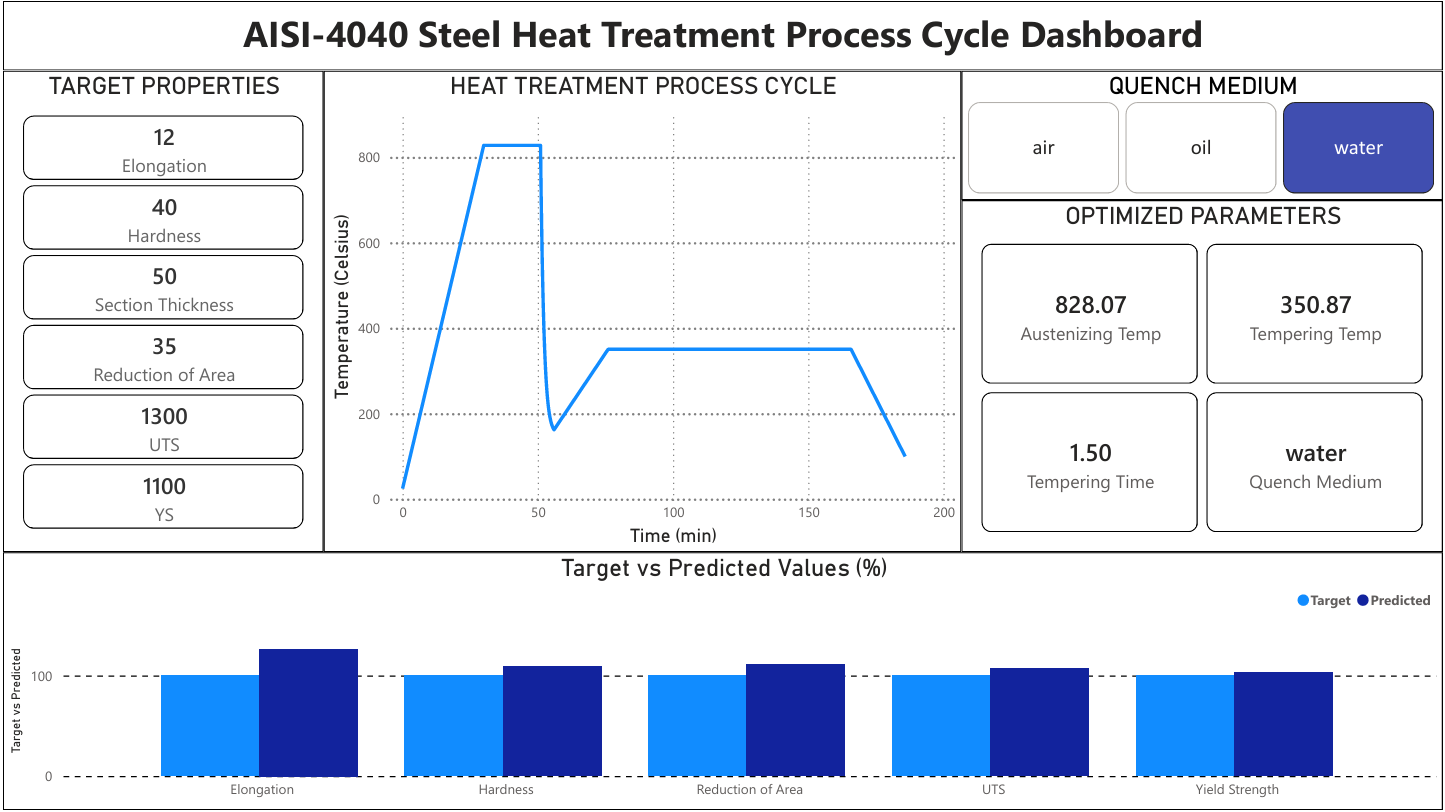

The page's visual inventory and layout, read from the dashboard file:
{"tool":"powerbi","page":{"name":"Heat Treatment Designer","canvas":[1280,720],"ordinal":0},"visuals":[{"type":"textbox","box":[0,0,1280.3,62.4],"z":0},{"type":"advancedSlicerVisual","title":"QUENCH MEDIUM","fields":{"Values":["Inverse_Results.quench_medium"]},"box":[852.3,62.4,428,114.9],"z":1000},{"type":"lineChart","title":"HEAT TREATMENT PROCESS CYCLE","fields":{"Category":["Heat_Treatment_Cycle.Time_min"],"Y":["Heat_Treatment_Cycle.Temperature_Cycle"],"Series":["Heat_Treatment_Cycle.quench_medium"]},"box":[284.9,62.4,567.4,428],"z":2000},{"type":"cardVisual","title":"TARGET PROPERTIES","fields":{"Data":["Heat_Treatment_Input.Elongation","Heat_Treatment_Input.Hardness","Heat_Treatment_Input.Section Thickness","Heat_Treatment_Input.Reduction of Area","Heat_Treatment_Input.UTS","Heat_Treatment_Input.YS"]},"box":[0,62.4,284.9,428],"z":3000},{"type":"cardVisual","title":"OPTIMIZED PARAMETERS","fields":{"Data":["Inverse_Results.Austenizing Temp","Inverse_Results.Tempering Temp","Inverse_Results.Tempering Time","Min(Inverse_Results.quench_medium)"]},"box":[852.3,177.3,428,313],"z":4000},{"type":"clusteredColumnChart","title":"Target vs Predicted Values (%)","fields":{"Category":["PropertyTable.PropertyName"],"Y":["PropertyTable.Target %","PropertyTable.Predicted %"]},"box":[0,490.4,1280.3,229.9],"z":5000}]}

Visuals, with their boxes in screenshot pixels (x1, y1, x2, y2), scaled from the page's 1280x720 canvas onto the 1445x812 screenshot:
textbox: (left=0, top=0, right=1444, bottom=70)
"QUENCH MEDIUM" advancedSlicerVisual: (left=962, top=70, right=1444, bottom=200)
"HEAT TREATMENT PROCESS CYCLE" lineChart: (left=322, top=70, right=962, bottom=553)
"TARGET PROPERTIES" cardVisual: (left=0, top=70, right=322, bottom=553)
"OPTIMIZED PARAMETERS" cardVisual: (left=962, top=200, right=1444, bottom=553)
"Target vs Predicted Values (%)" clusteredColumnChart: (left=0, top=553, right=1444, bottom=811)
